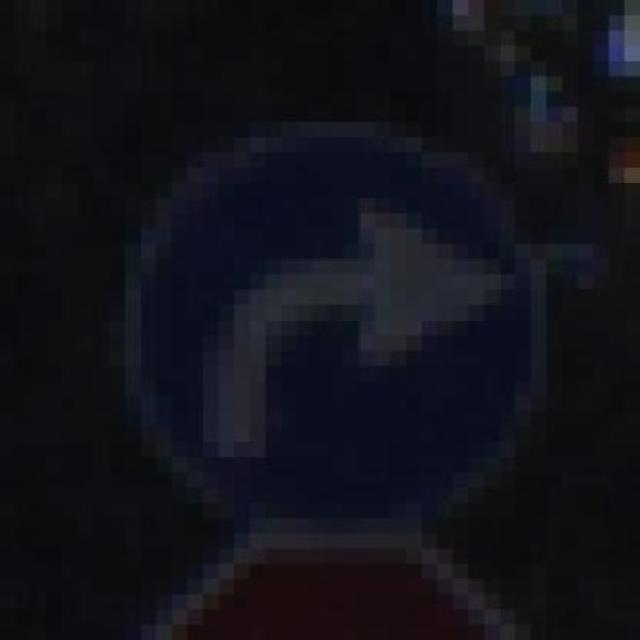Turn right ahead: (109, 76, 562, 549)
